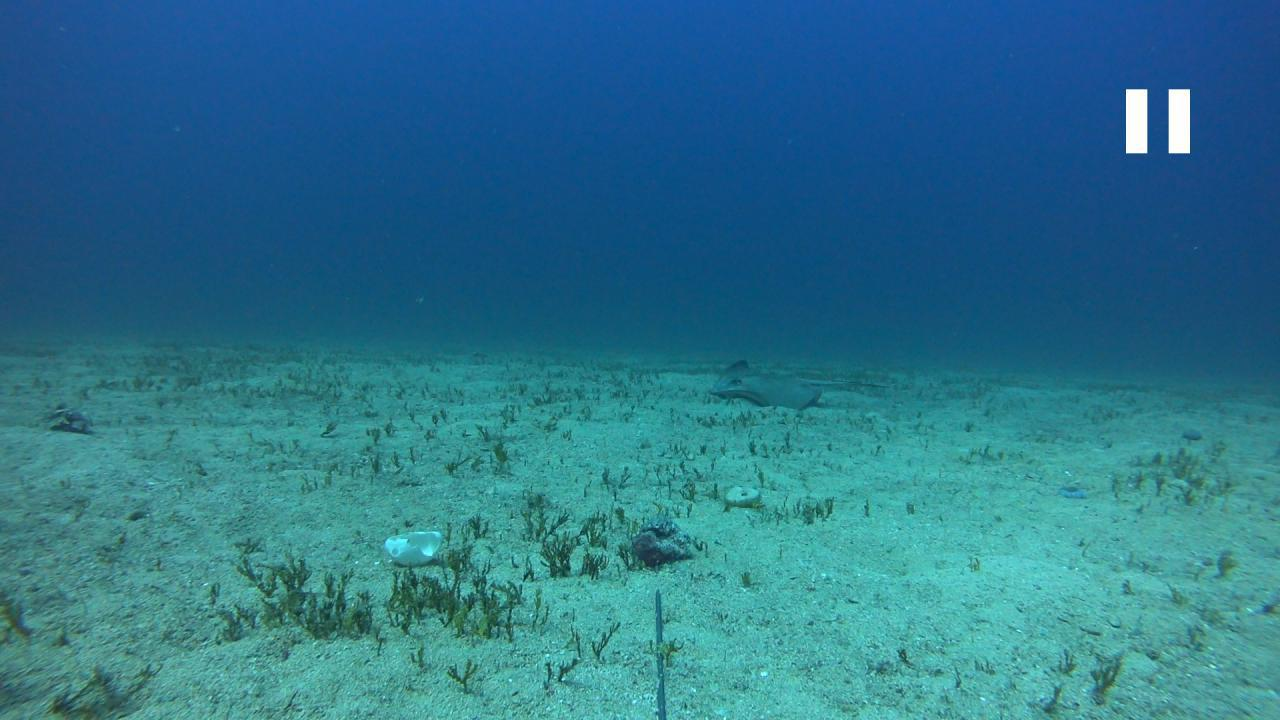dasyatis: (709, 358, 890, 408)
